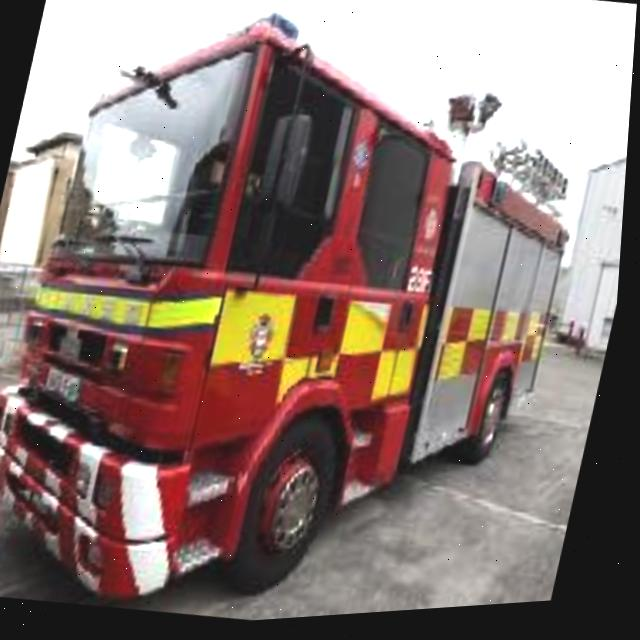emergency: (0, 0, 615, 640)
